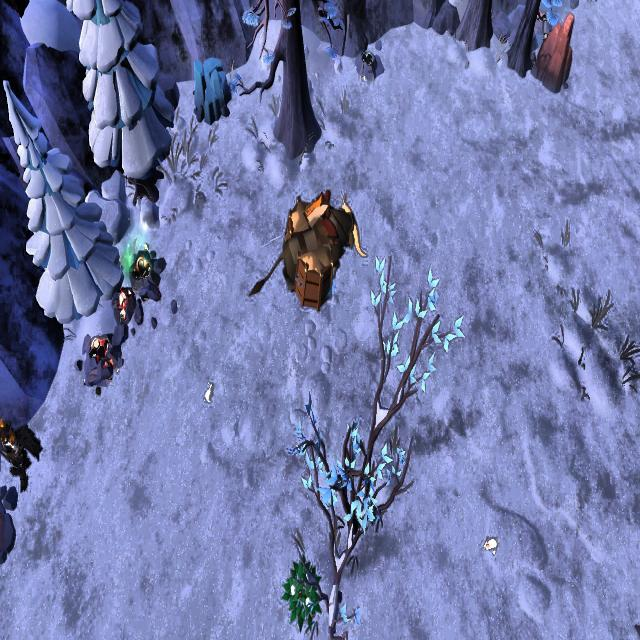fiber_t3: (279, 556, 321, 630)
rock_t4: (190, 56, 230, 122)
rock_t5: (532, 11, 580, 97)
